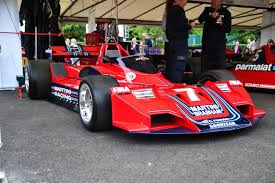f1_car: (21, 32, 273, 145)
